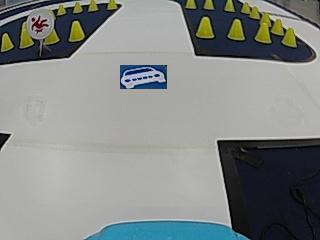cone: (196, 16, 214, 39), (254, 21, 271, 44), (227, 18, 244, 40), (68, 20, 84, 41), (19, 25, 32, 48), (282, 27, 296, 48), (271, 17, 284, 35), (1, 32, 12, 51), (240, 0, 251, 14), (250, 4, 259, 19), (224, 0, 235, 12), (56, 3, 66, 16), (88, 0, 98, 12), (203, 0, 214, 10), (73, 2, 82, 13), (185, 0, 195, 9), (107, 0, 116, 9)
tumble: (28, 11, 52, 36)
